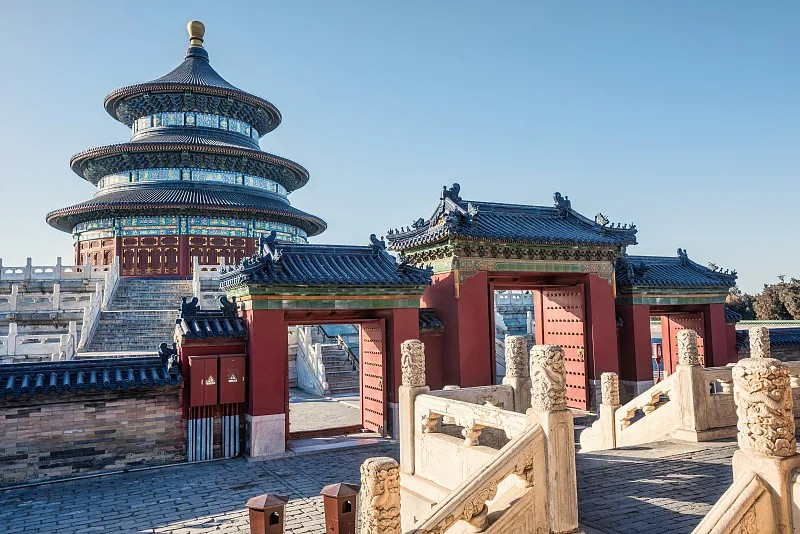Heaven: (41, 17, 330, 279)
